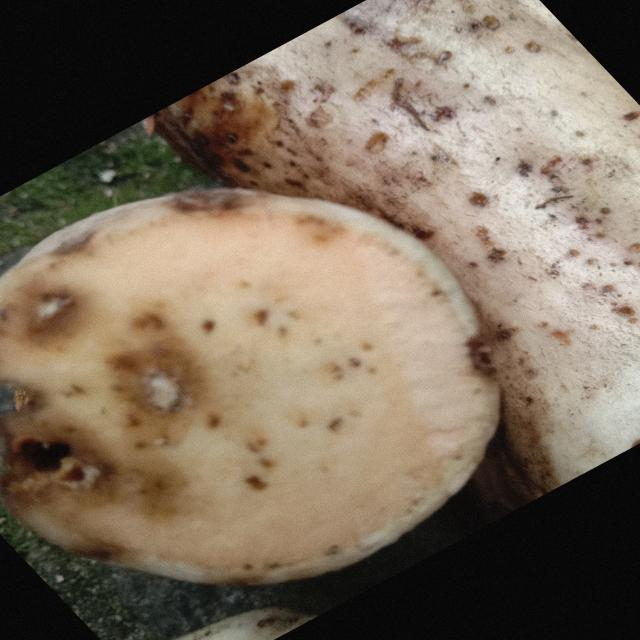Sick Sweet Potato_Tuber Rot: (2, 189, 498, 584)
